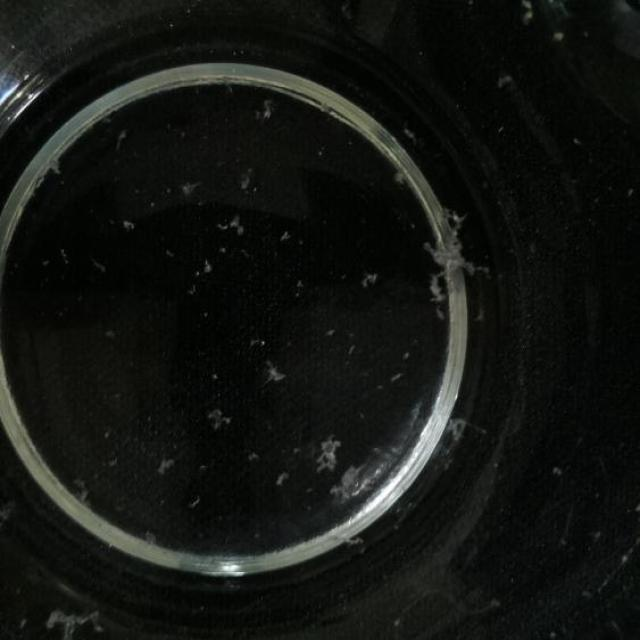fiber: (430, 207, 486, 311), (44, 605, 110, 640), (31, 156, 66, 194), (317, 436, 346, 475), (444, 411, 469, 450), (72, 468, 92, 516), (326, 532, 365, 548), (208, 402, 230, 428), (235, 167, 258, 190), (220, 213, 243, 235), (156, 449, 176, 474), (182, 175, 202, 199), (363, 264, 379, 293), (195, 257, 216, 279), (257, 97, 274, 123), (142, 528, 162, 550), (274, 467, 290, 492), (266, 362, 284, 383), (394, 163, 410, 182), (124, 216, 139, 230), (500, 72, 512, 88), (280, 230, 292, 243)
